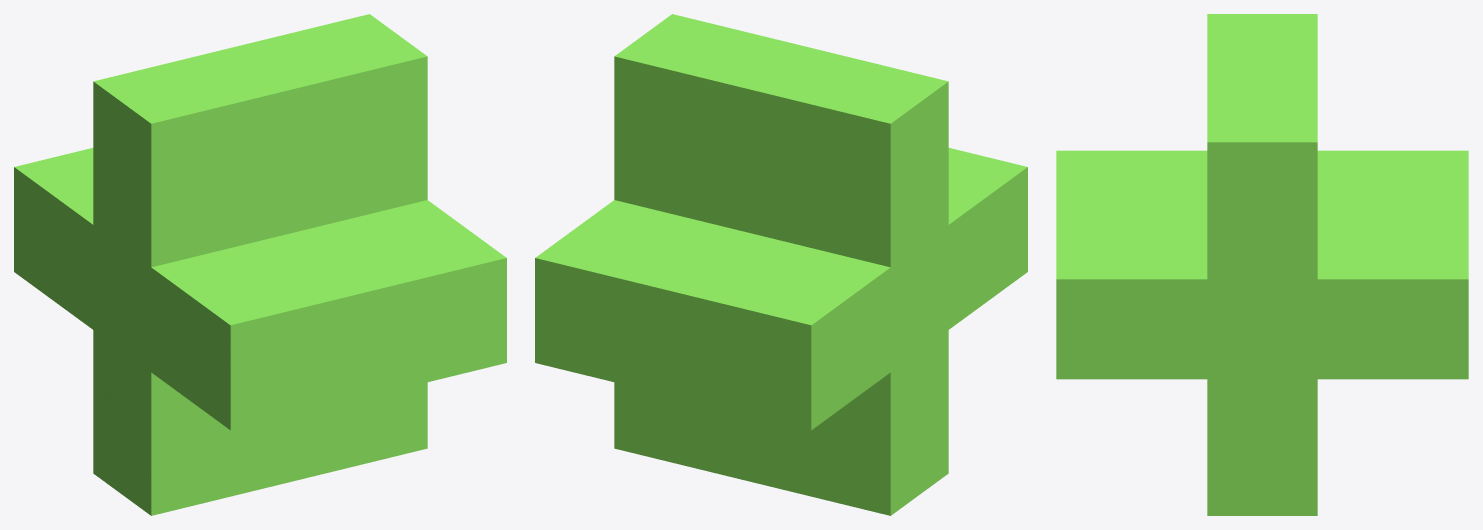
File: roto.fbx
3 views of the same model, side by side, from view 1: azimuth 30°, elevation 25°; view 2: azimuth 150°, elevation 25°; view 3: azimuth 270°, elevation 25° (orthographic). The views are drawn at different scales.
Parts seen in each view (by area): view 1: Group6, Group3, Group5, Group2; view 2: Group6, Group2, Group5, Group3; view 3: Group2, Group3, Group6, Group5.
Boxes of the visible parts, bbox=[...] form: Group6: bbox=[93, 14, 427, 298]; Group3: bbox=[122, 200, 506, 430]; Group5: bbox=[93, 299, 427, 515]; Group2: bbox=[14, 148, 122, 329]; Group6: bbox=[614, 14, 948, 298]; Group2: bbox=[535, 200, 919, 430]; Group5: bbox=[614, 299, 948, 515]; Group3: bbox=[919, 148, 1027, 329]; Group2: bbox=[1262, 150, 1468, 379]; Group3: bbox=[1056, 150, 1262, 379]; Group6: bbox=[1207, 14, 1317, 328]; Group5: bbox=[1207, 329, 1317, 515].
Size of the model in its own units: 211 by 286 by 286.
